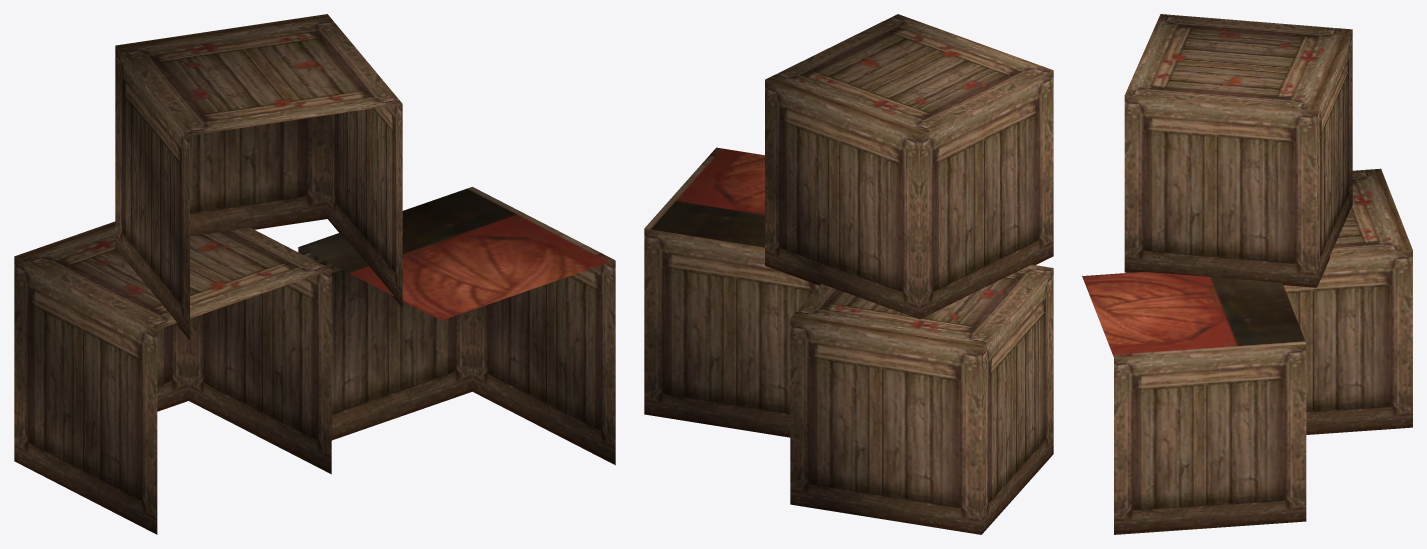
Rendered from yw_xiongzi01_55_28_7181out.fbx.
The picture shows the model from 3 angles, left to right: view 1: azimuth 30°, elevation 25°; view 2: azimuth 150°, elevation 25°; view 3: azimuth 270°, elevation 25°; orthographic projection. The views are drawn at different scales.
Parts seen in each view (by area): view 1: yw_xiongzi01; view 2: yw_xiongzi01; view 3: yw_xiongzi01.
Part boxes in pixels (<box>): yw_xiongzi01: <box>14,14,615,534</box>; yw_xiongzi01: <box>644,14,1053,534</box>; yw_xiongzi01: <box>1082,14,1412,534</box>.
Size of the model in its own units: 0.4521 by 0.3938 by 0.335.
